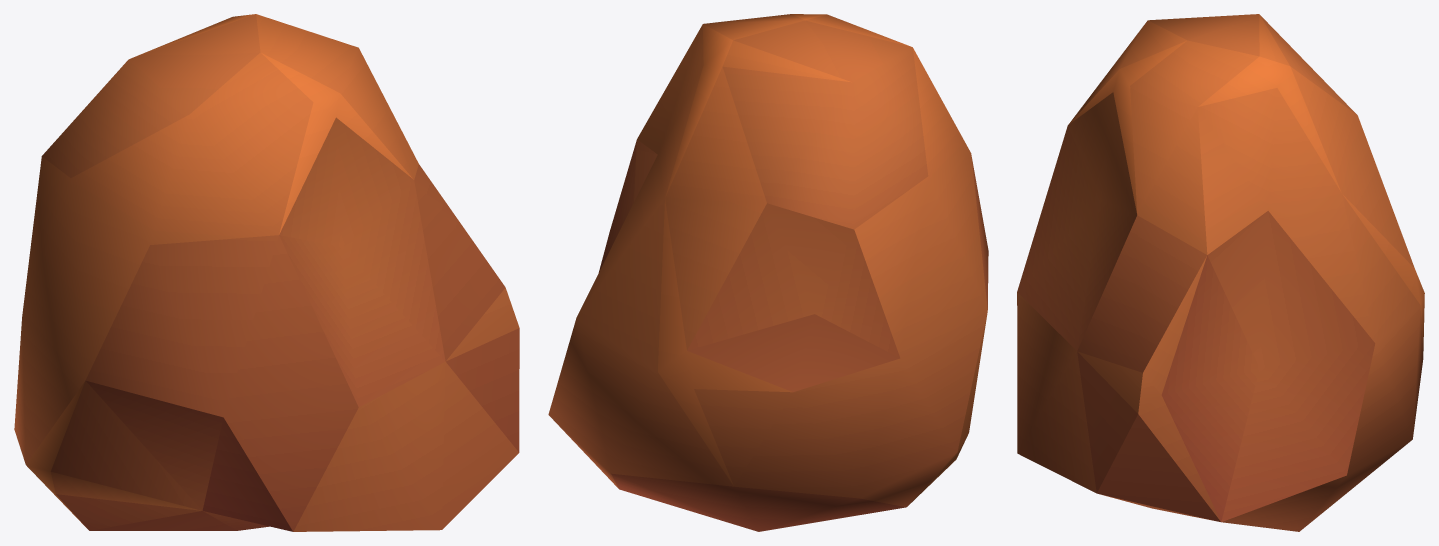
Rendered from kk_copper_nugget.glb.
3 renders of one model, left to right at view 1: azimuth 30°, elevation 25°; view 2: azimuth 150°, elevation 25°; view 3: azimuth 270°, elevation 25°, orthographic. The views are drawn at different scales.
Visible parts, largest first — view 1: Copper_Nugget_Large; view 2: Copper_Nugget_Large; view 3: Copper_Nugget_Large.
Boxes of the visible parts, box(x1,y1,x2,y2) form: Copper_Nugget_Large: box(14, 14, 519, 531); Copper_Nugget_Large: box(548, 14, 988, 531); Copper_Nugget_Large: box(1017, 14, 1424, 531).
Bounding box in the file's own units: 0.1651 × 0.18 × 0.1526.
Materials: 1 (1 with a texture image).
